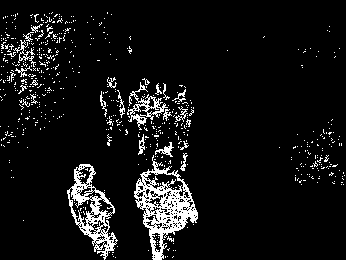person: (132, 150, 199, 259), (62, 161, 120, 260), (171, 83, 197, 172), (97, 75, 128, 148), (127, 76, 153, 156), (150, 82, 174, 159)
